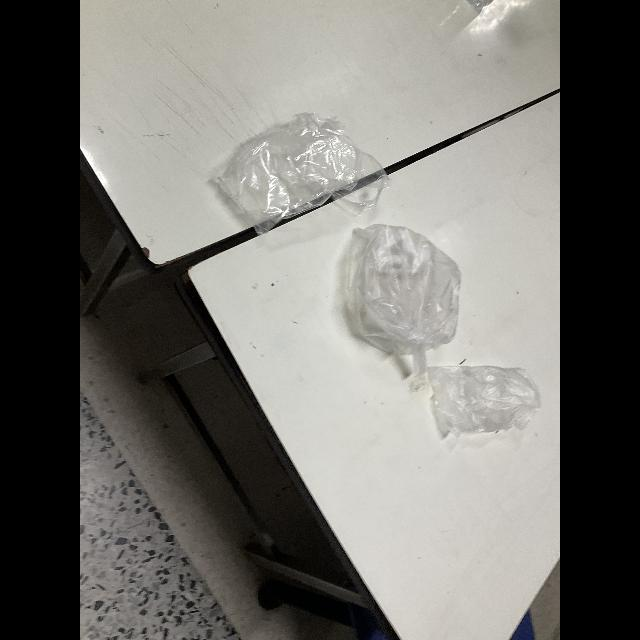plastic_bag: (211, 108, 379, 220), (339, 220, 461, 364), (427, 357, 543, 448)
